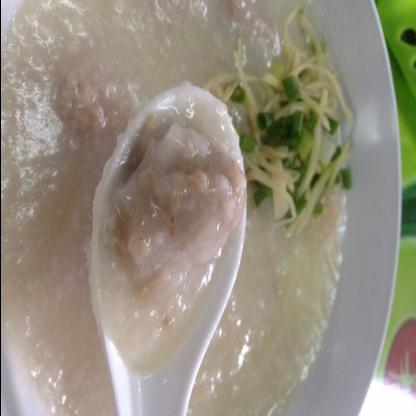Joke: (0, 2, 382, 416)
